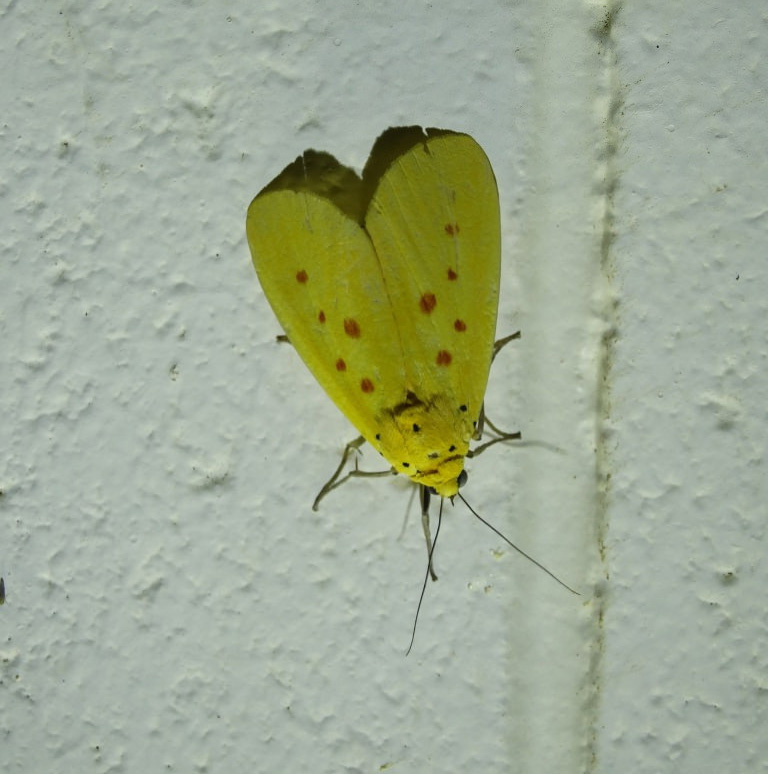Agape chloropyga: (245, 129, 585, 659)
moth: (243, 127, 583, 657)
